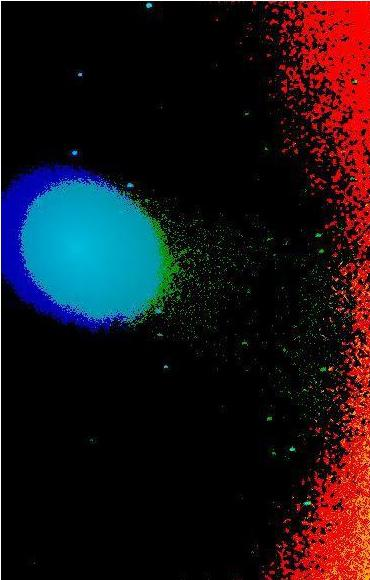star: (129, 185, 159, 215)
